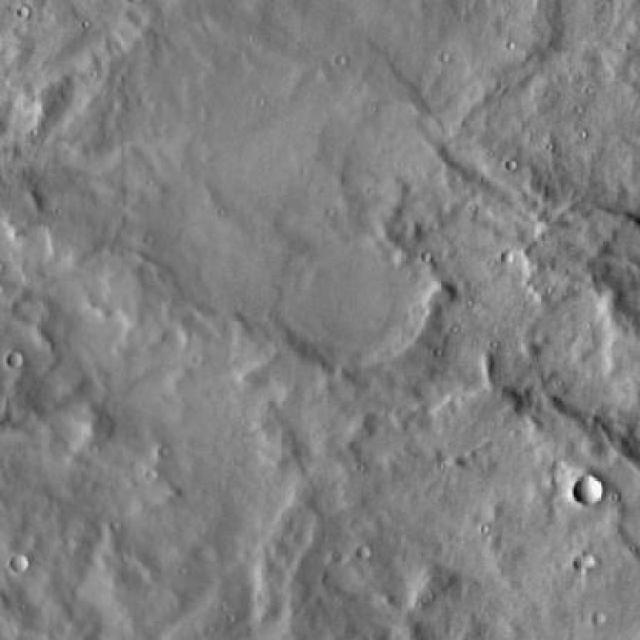crater: (289, 400, 640, 640), (284, 219, 431, 366), (570, 477, 599, 506), (10, 352, 27, 368)
